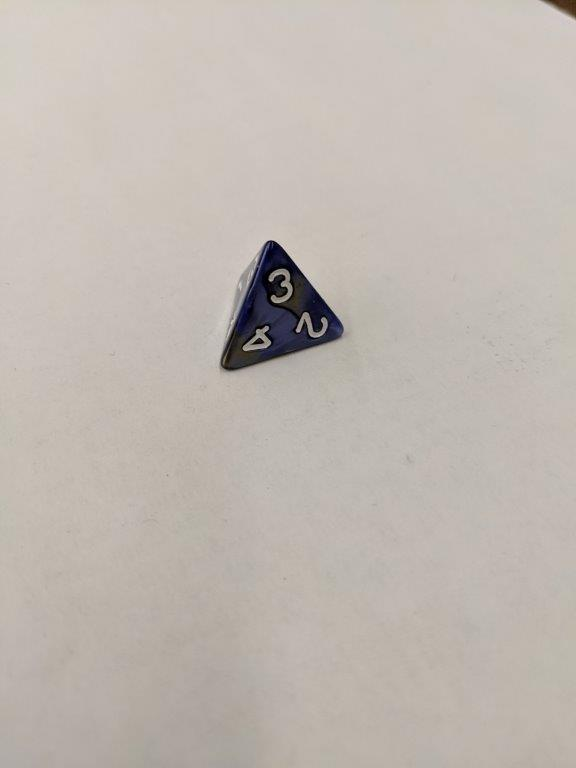d4-3: (219, 240, 343, 372)
